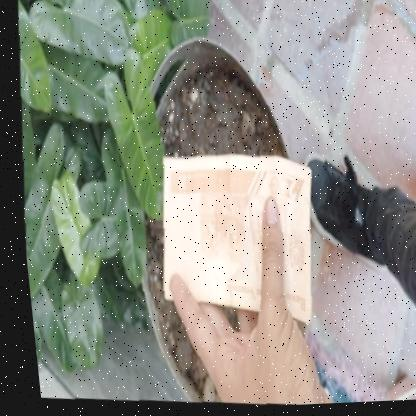twenty-back-vef: (143, 148, 320, 332)
